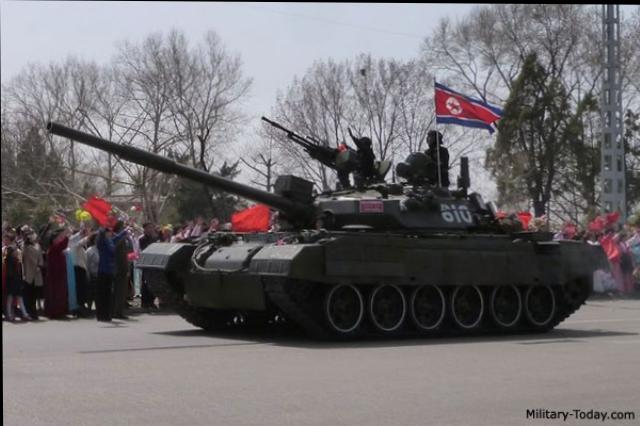other: (331, 125, 381, 187), (409, 129, 449, 185)
tank: (144, 187, 614, 351)
